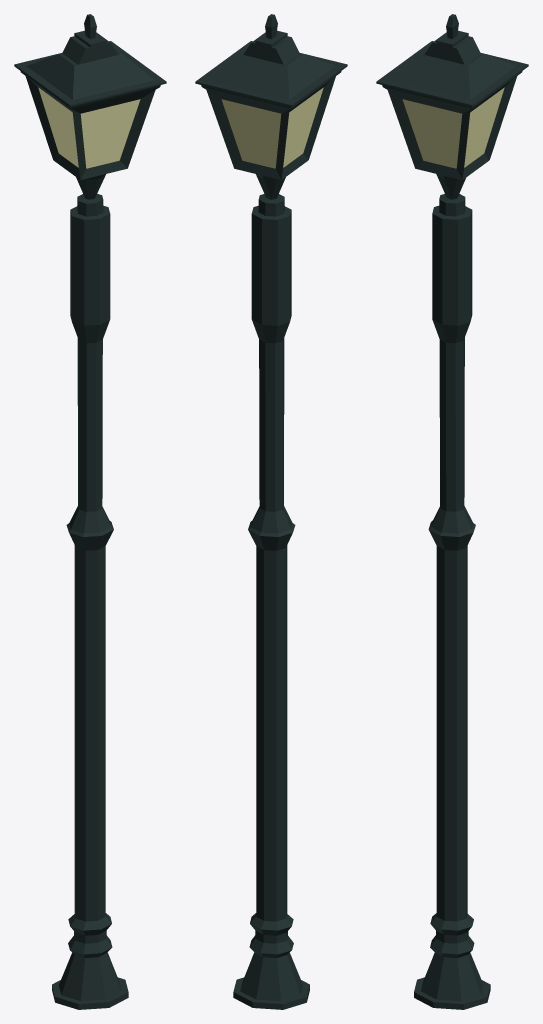
The model's file is Lamp_1.fbx.
3 views of the same model, side by side, from view 1: azimuth 30°, elevation 25°; view 2: azimuth 150°, elevation 25°; view 3: azimuth 330°, elevation 25° (orthographic).
Parts seen in each view (by area): view 1: Lamp_1; view 2: Lamp_1; view 3: Lamp_1.
Part boxes in pixels (x1,y1,x2,y2): Lamp_1: [14, 14, 166, 1009]; Lamp_1: [195, 14, 347, 1009]; Lamp_1: [376, 14, 528, 1009].
Bounding box in the file's own units: 28.12 × 272 × 28.12.
